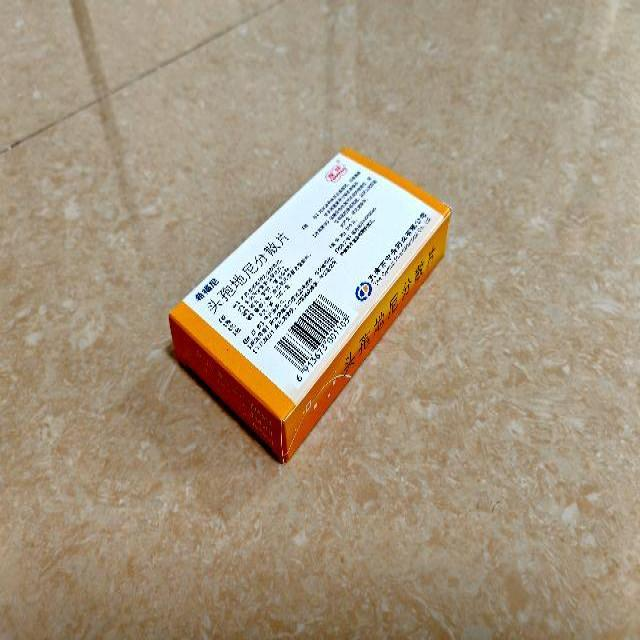box: (166, 148, 450, 462)
